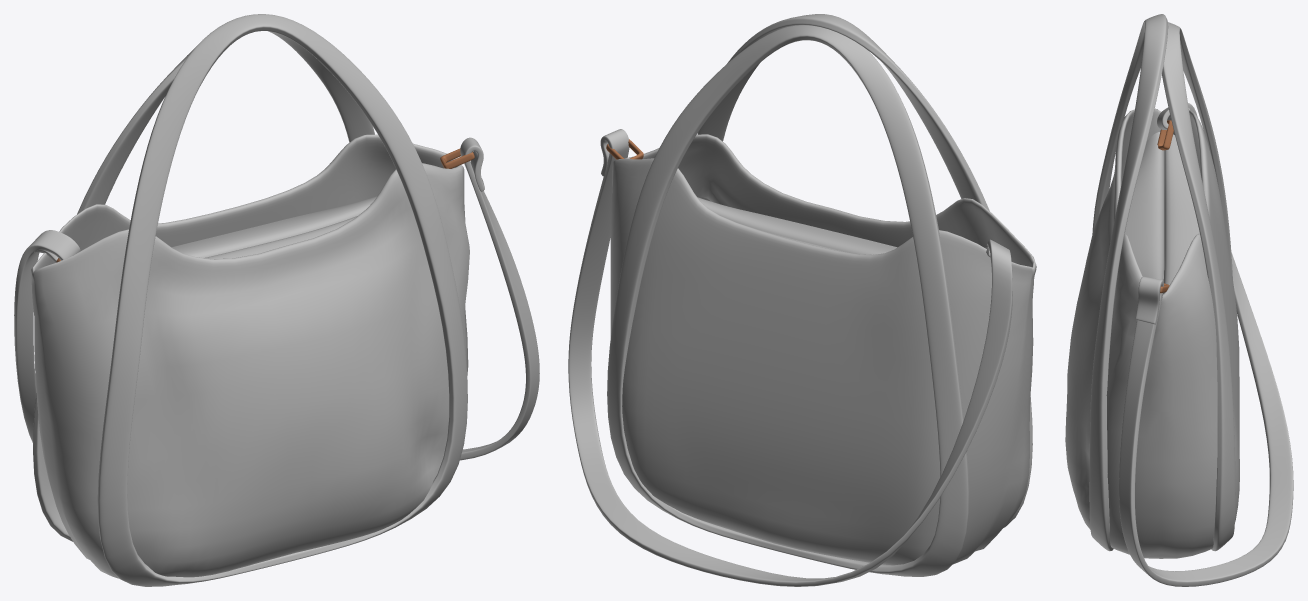
File: 1754731190557-handbag_mockup_asset.glb
The picture shows the model from 3 angles, left to right: view 1: azimuth 30°, elevation 25°; view 2: azimuth 150°, elevation 25°; view 3: azimuth 270°, elevation 25°; orthographic projection. The views are drawn at different scales.
Parts seen in each view (by area): view 1: FinalAsset_0; view 2: FinalAsset_0; view 3: FinalAsset_0.
Part boxes in pixels (box(x1,y1,x2,y2)): FinalAsset_0: box(14, 14, 539, 586); FinalAsset_0: box(568, 14, 1036, 586); FinalAsset_0: box(1065, 14, 1293, 586).
Bounding box in the file's own units: 5.59 × 5.73 × 2.47.
Materials: 2 (1 with a texture image).
